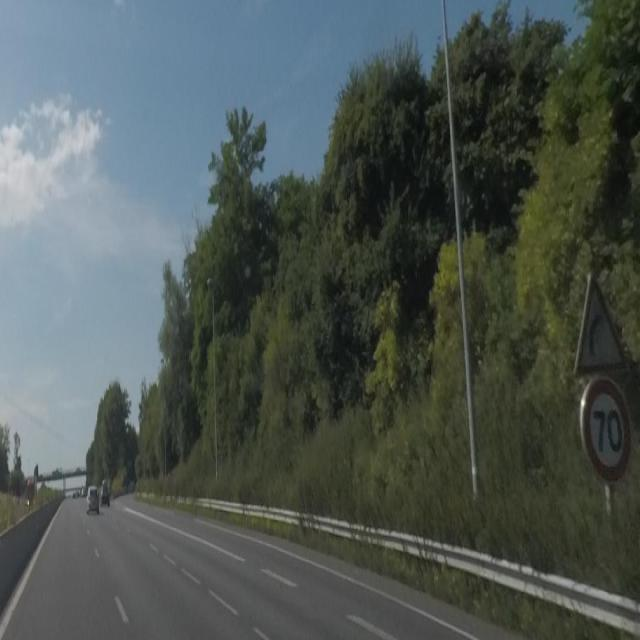speed_70: (584, 378, 630, 482)
